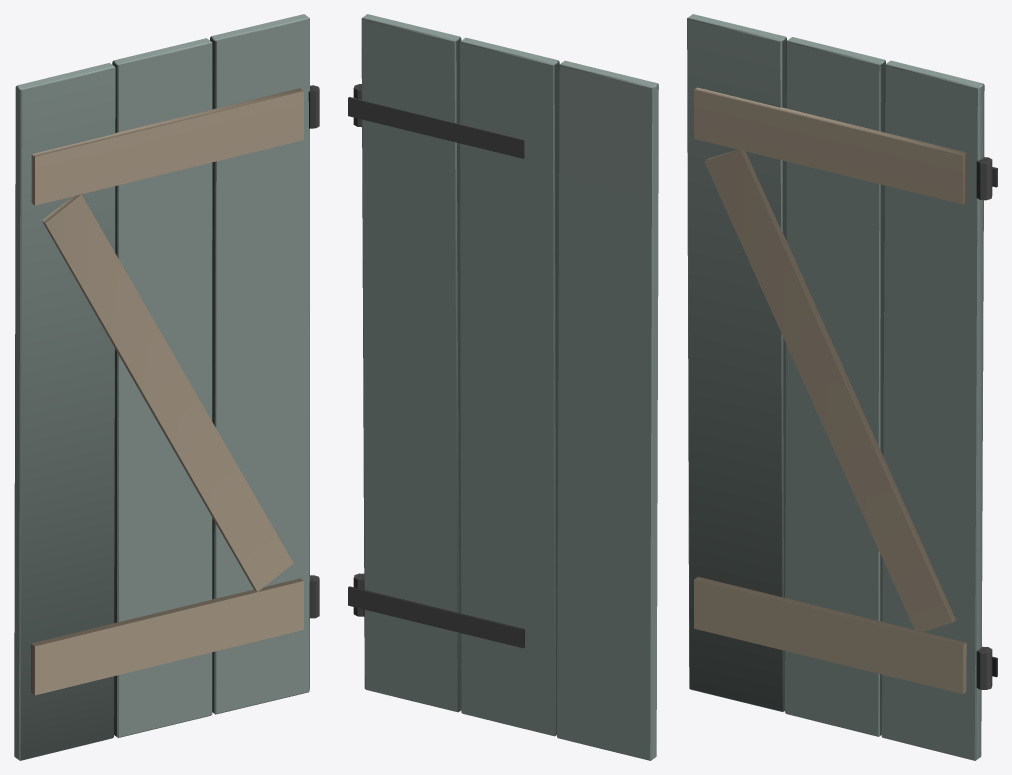
The model's file is shutter.glb.
3 renders of one model, left to right at view 1: azimuth 30°, elevation 25°; view 2: azimuth 150°, elevation 25°; view 3: azimuth 330°, elevation 25°, orthographic.
Parts seen in each view (by area): view 1: static; view 2: static; view 3: static.
Part boxes in pixels (box(x1,y1,x2,y2)): static: box(14, 14, 319, 760); static: box(348, 14, 658, 760); static: box(687, 14, 997, 760).
Size of the model in its own units: 0.5183 by 1.1 by 0.034.
